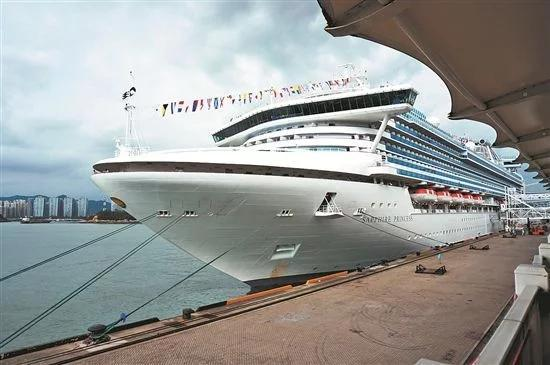youlun: (89, 86, 538, 285)
